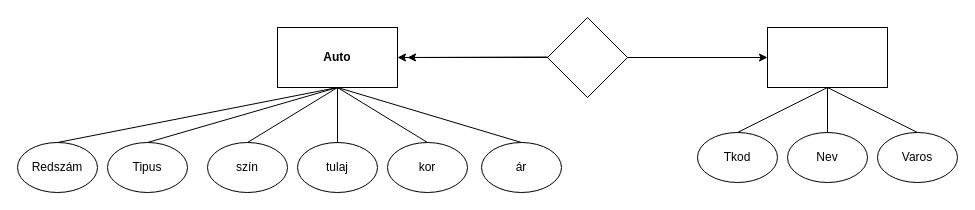
The diagram is 975 pixels wide and 210 high, and some of its shapes have lost their labels. Each missing label, with the centre of its shape:
"A-T" belongs at [587,57].
"Tulajdonos" belongs at [827,57].
